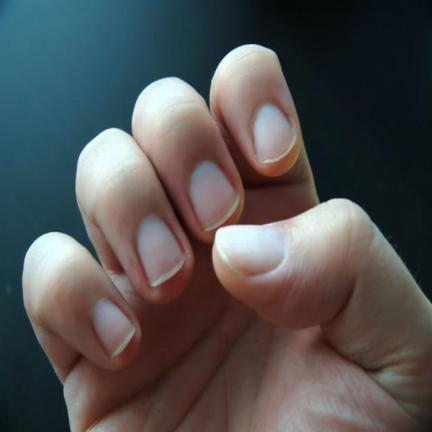Nail: (216, 225, 287, 276), (189, 161, 240, 232), (137, 216, 186, 287), (92, 299, 136, 359), (253, 104, 297, 163)
